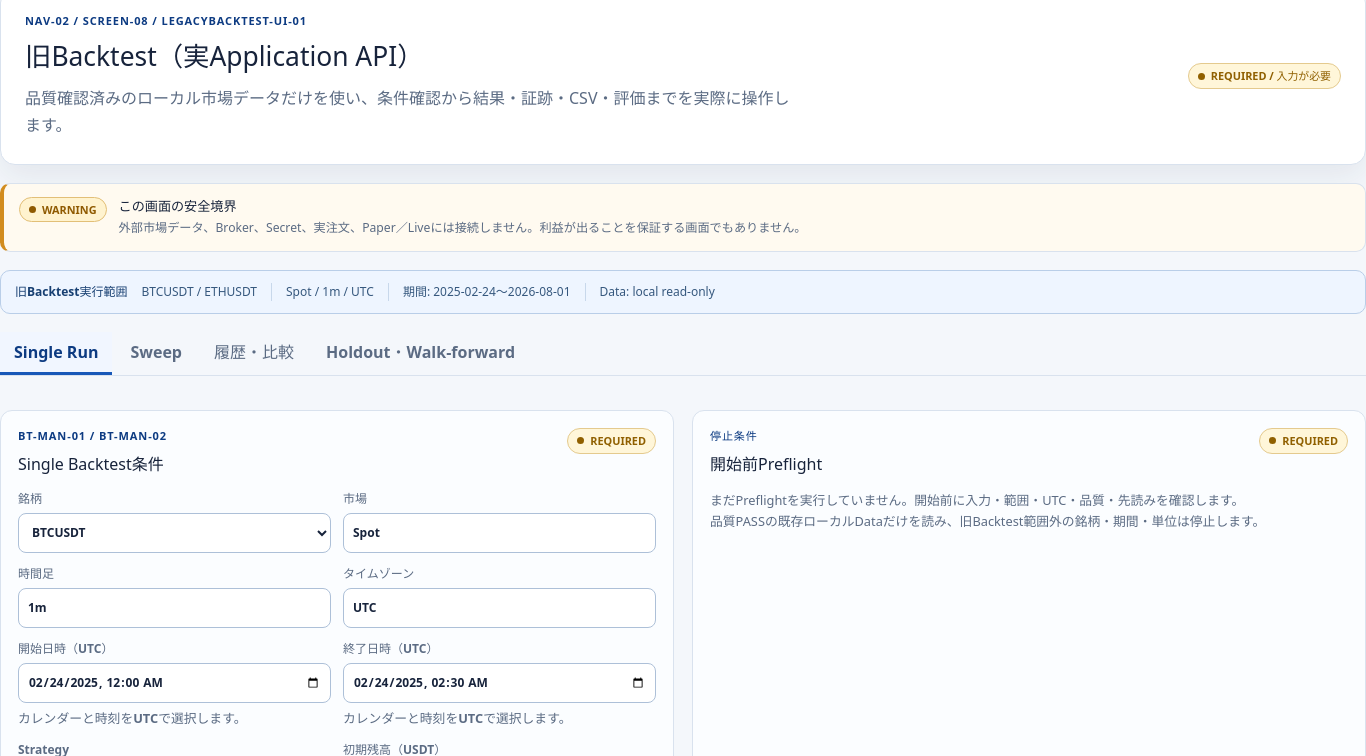
Test: LegacyBacktest legacy Backtest datetime inputs › uses UTC datetime pickers and preserves the existing API UTC payload
Expected: the field labelled "終了日時（UTC）" holds "2025-02-24T02:30", [343,663,656,703]
Replace the text in the field labelled "開始日時（UTC）" with "2025-02-24T01:00" at {"x": 174, "y": 683}, box [18,663,331,703]
(page scrolled)
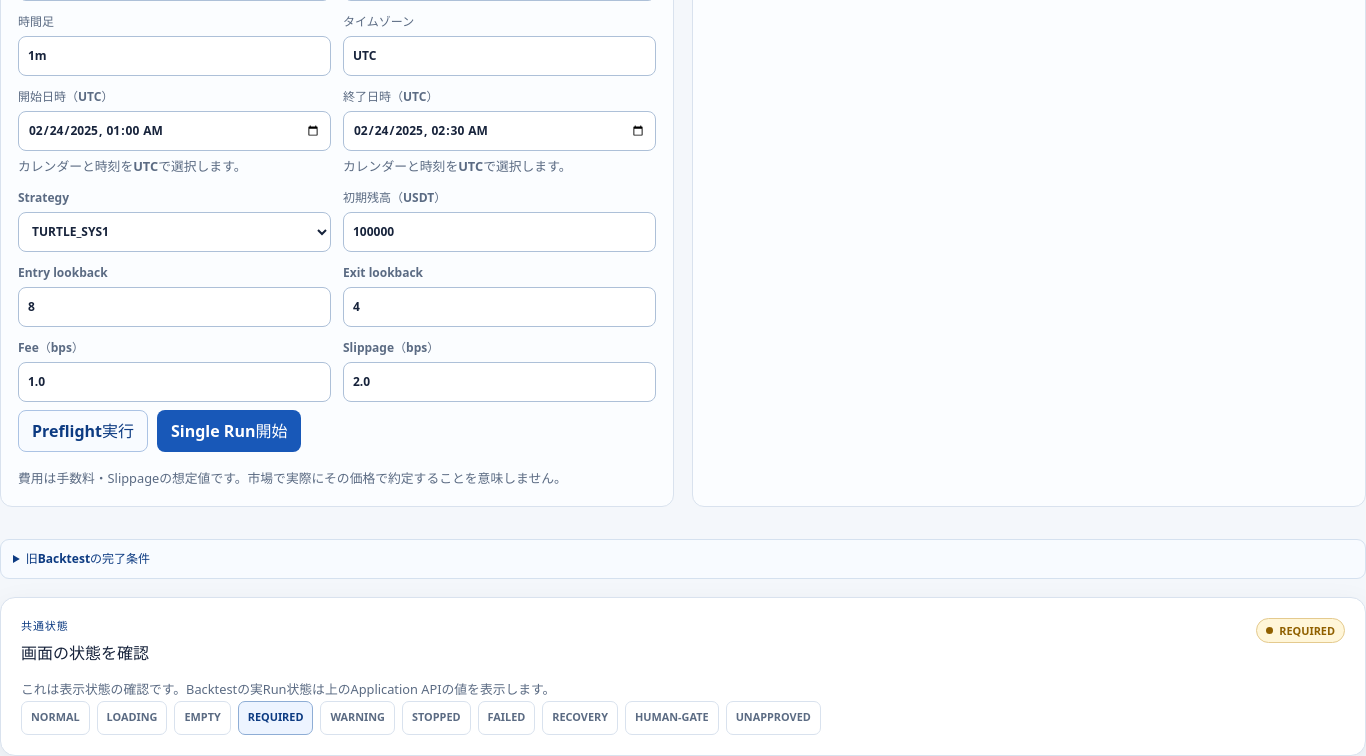
Click the button "Preflight実行".
click(83, 431)  # box [18,410,148,452]
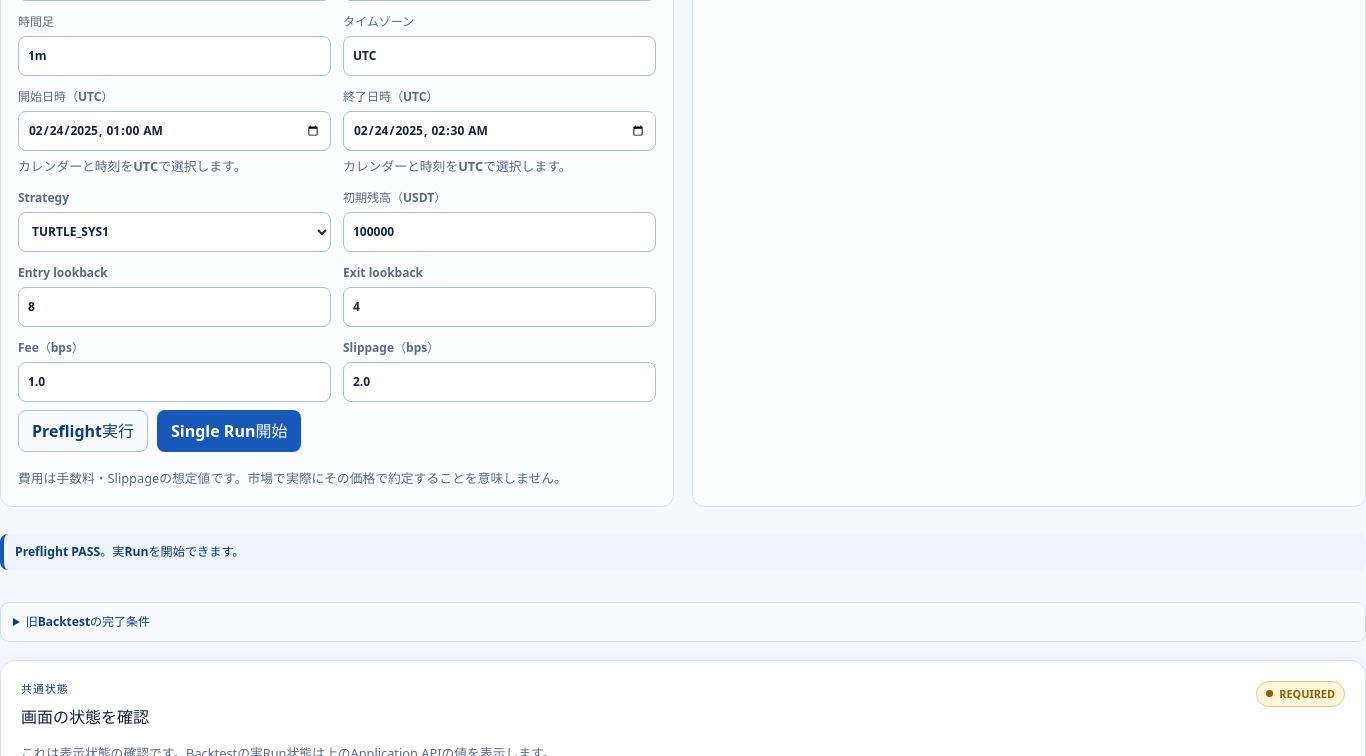
Replace the text in the field labelled "終了日時（UTC）" with "2025-02-24T01:00" at {"x": 500, "y": 131}, box [343,111,656,151]
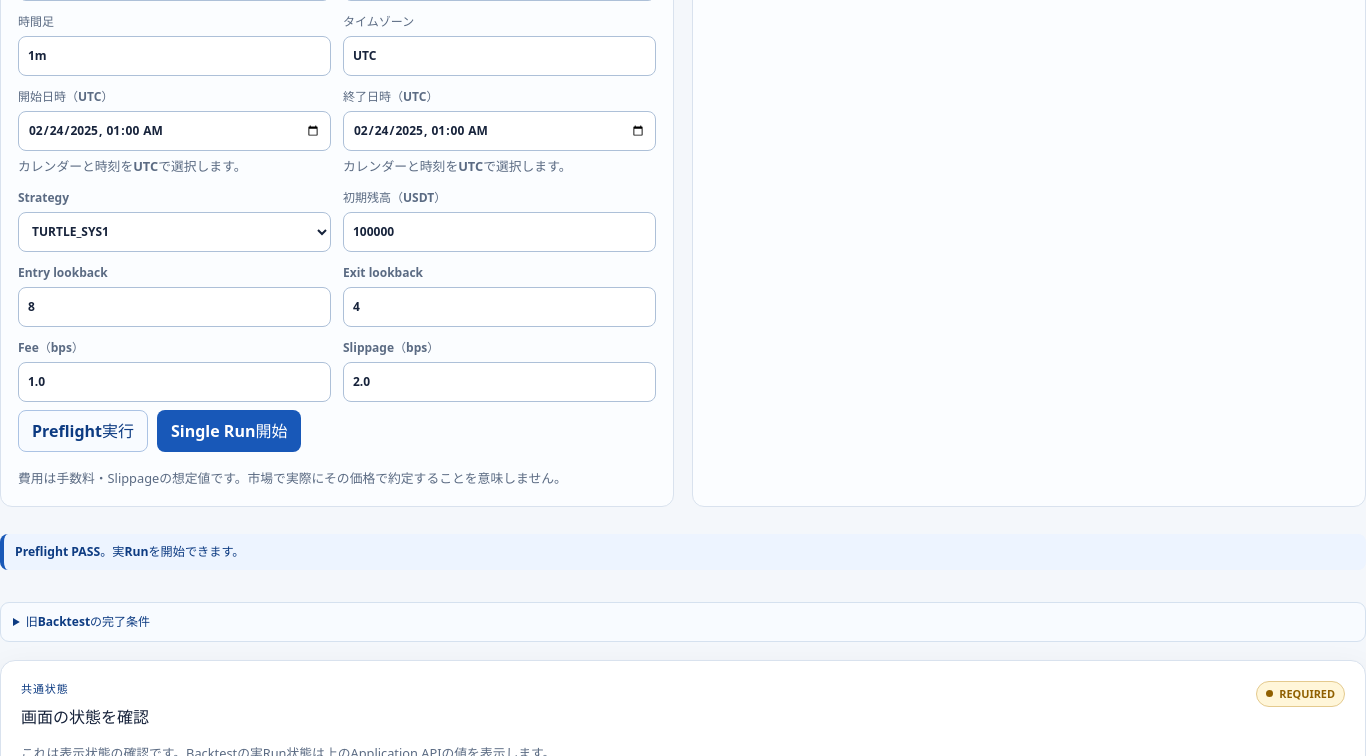
Click the button "Preflight実行".
click(83, 431)  # box [18,410,148,452]
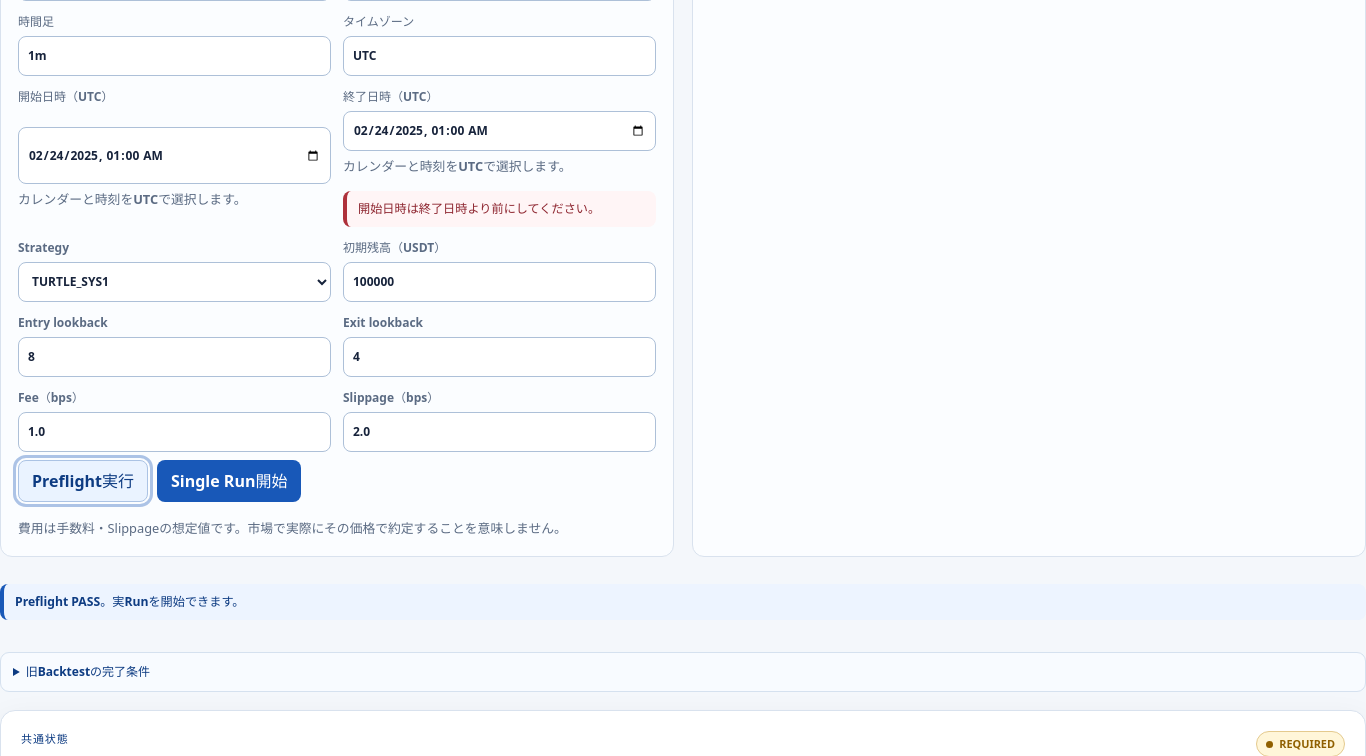
Expected: the text "開始日時は終了日時より前にしてください。" is shown, [343,191,656,227]
